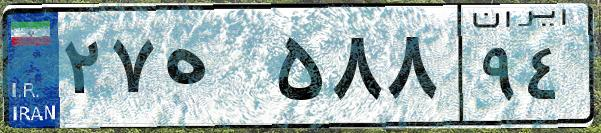2: (57, 26, 110, 100)
4: (525, 38, 570, 115)
5: (270, 28, 330, 110)
7: (110, 28, 158, 98)
8: (385, 28, 445, 110), (330, 28, 385, 110)
9: (475, 38, 525, 113)
ه: (158, 20, 270, 120)
